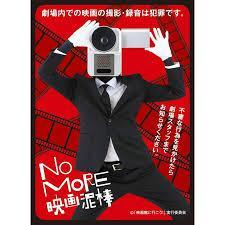no more kid: (85, 22, 152, 76)
